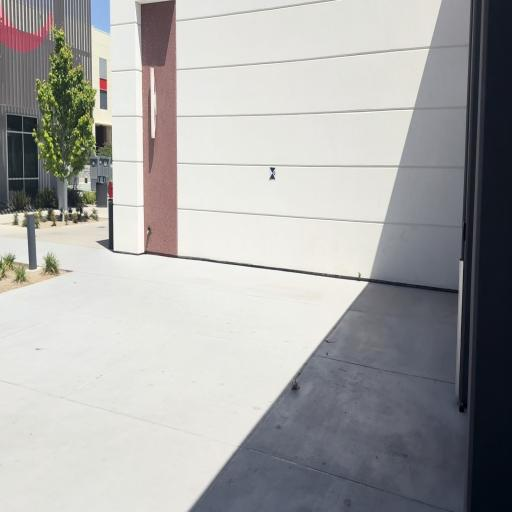target0: (269, 167, 276, 181)
